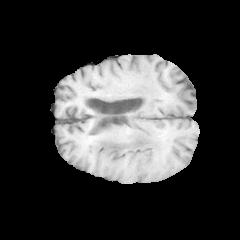glioma: (88, 123, 168, 169)
